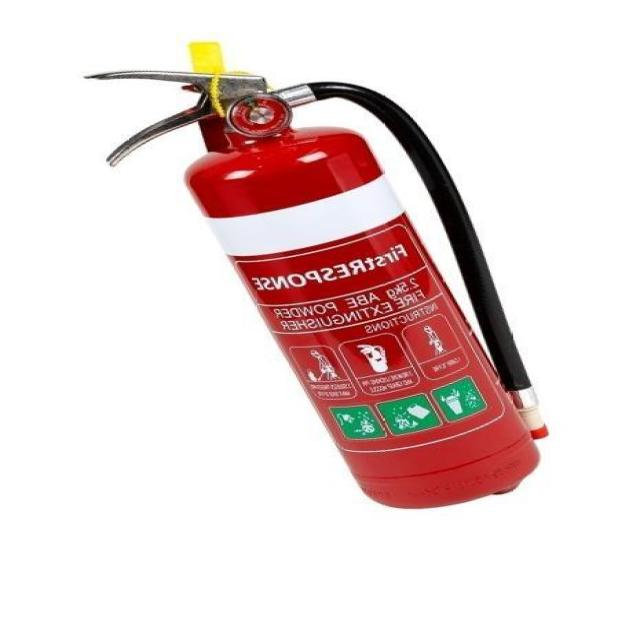fire_extinguisher: (76, 35, 557, 515)
